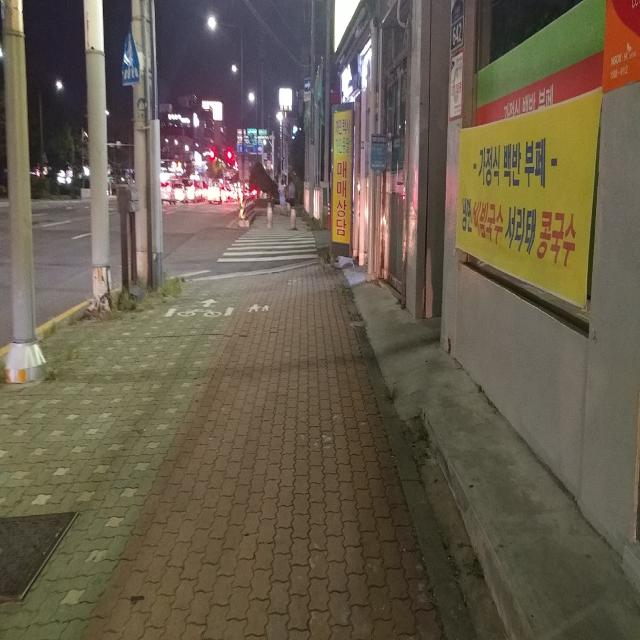횡단보도: (217, 215, 319, 262)
